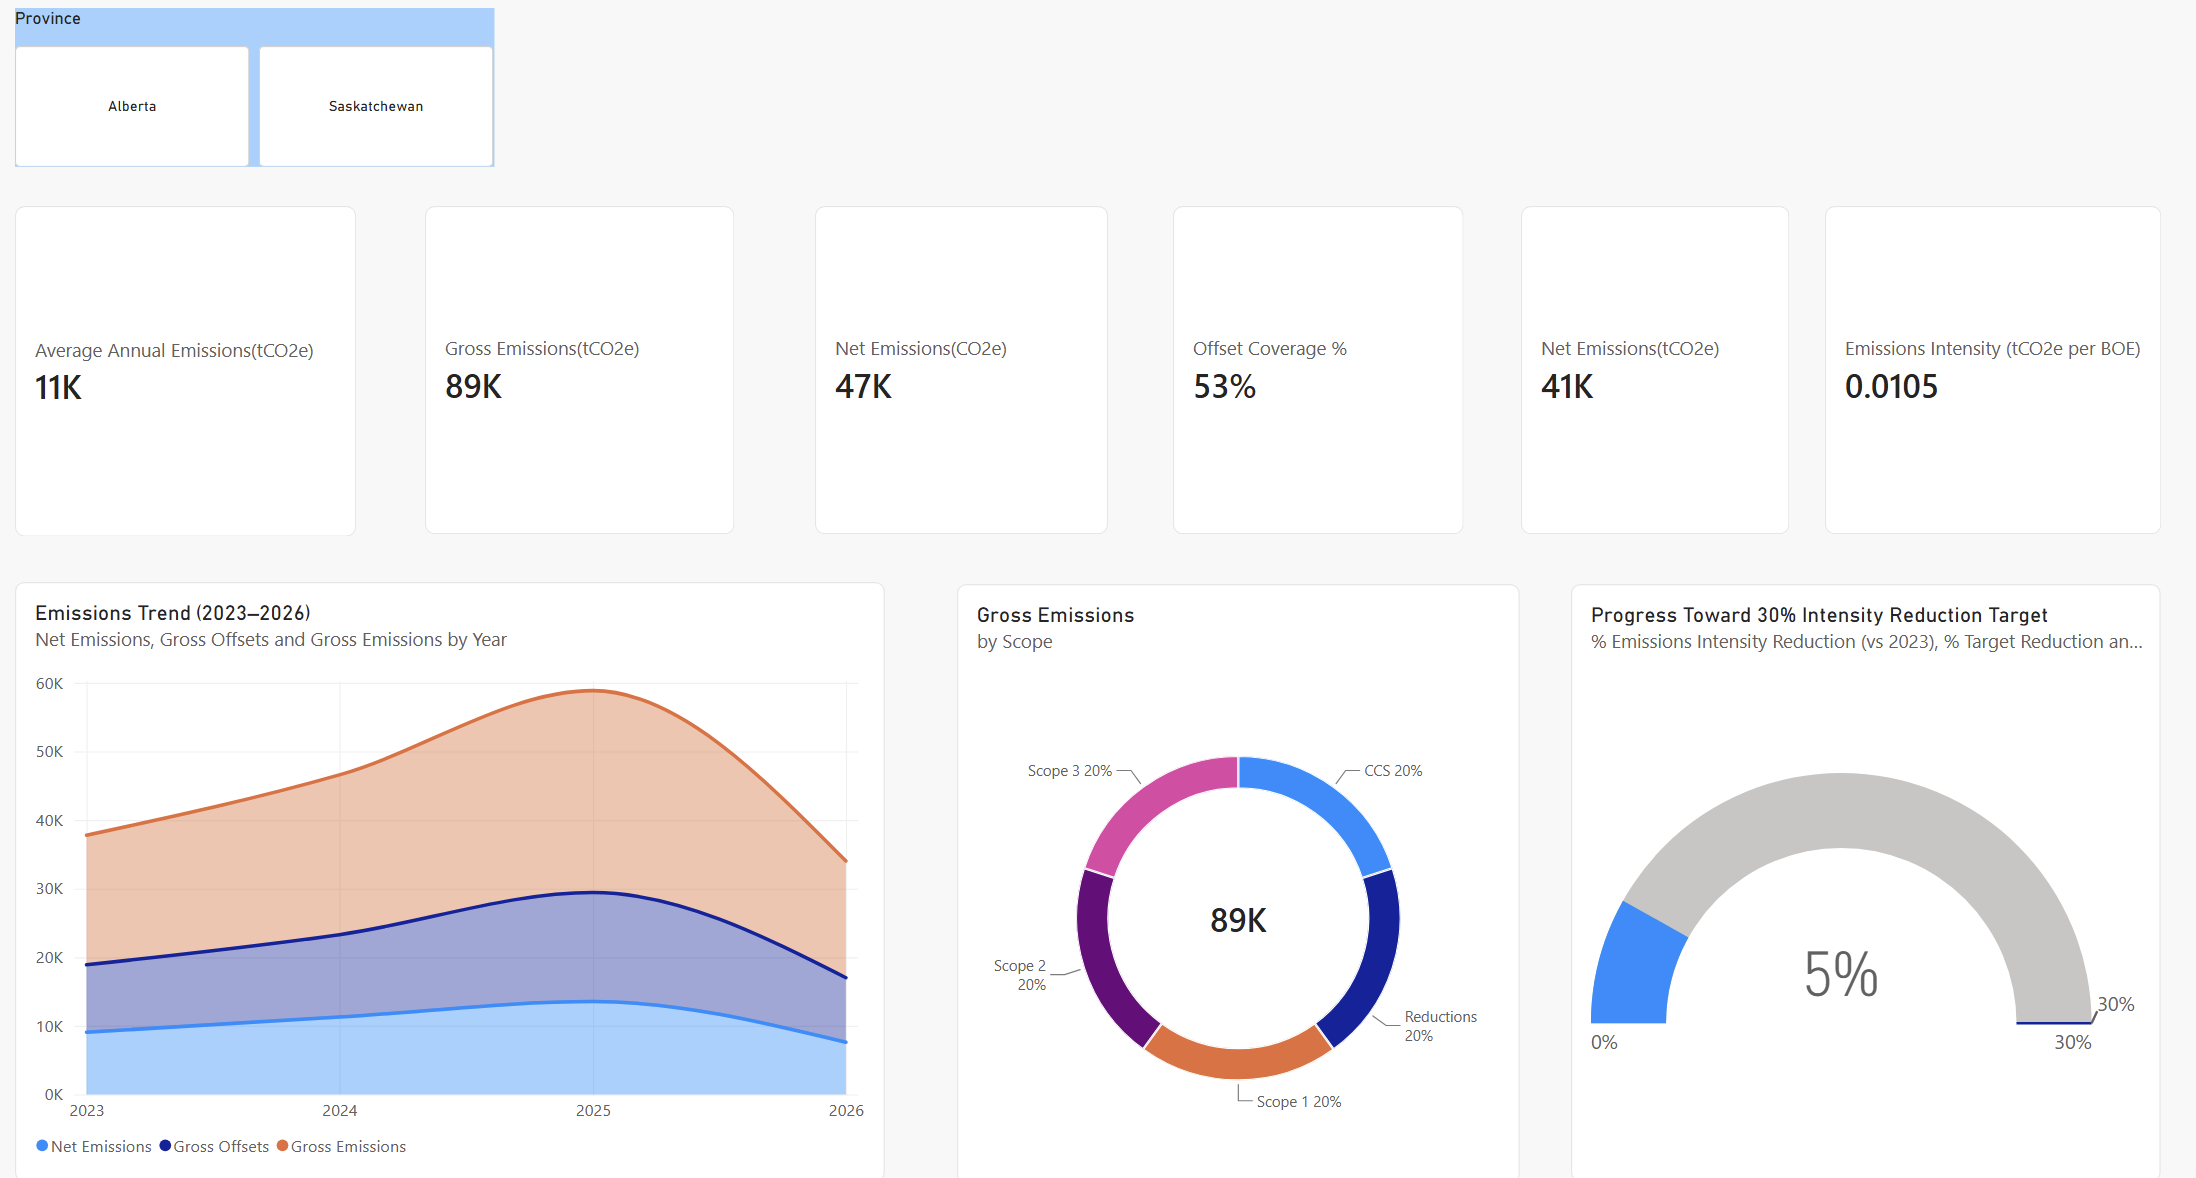

The page's visual inventory and layout, read from the dashboard file:
{"tool":"powerbi","page":{"name":"Executive Summary","canvas":[1920,1080],"ordinal":0},"visuals":[{"type":"cardVisual","fields":{"Data":["Emissions.Gross Emissions"]},"box":[376.7,183.7,264.1,280.2],"z":0},{"type":"cardVisual","fields":{"Data":["Emissions.Gross Offsets"]},"box":[709.7,183.7,250.3,280.2],"z":1000},{"type":"cardVisual","fields":{"Data":["Emissions.Net Emissions"]},"box":[1311.4,183.7,229.7,280.2],"z":2000},{"type":"cardVisual","fields":{"Data":["Emissions.Emissions Intensity (tCO2e per BOE)"]},"box":[1570.9,183.7,287.1,280.2],"z":3000},{"type":"stackedAreaChart","title":"Emissions Trend (2023–2026)","fields":{"Category":["Dates.Date.Variation.Date Hierarchy.Year","Dates.Date.Variation.Date Hierarchy.Quarter","Dates.Date.Variation.Date Hierarchy.Month","Dates.Date.Variation.Date Hierarchy.Day"],"Y":["Emissions.Net Emissions","Emissions.Gross Offsets","Emissions.Gross Emissions"]},"box":[27.6,505.3,741.8,512.2],"z":4000},{"type":"cardVisual","fields":{"Data":["Emissions.Offset Coverage %"]},"box":[1015.1,183.7,248,280.2],"z":5000},{"type":"advancedSlicerVisual","fields":{"Values":["Assets.Province"]},"box":[27.6,16.1,408.8,135.5],"z":6000},{"type":"donutChart","fields":{"Category":["Emission Scope.Scope"],"Y":["Emissions.Gross Emissions"]},"box":[831.4,507.6,480,512.2],"z":7000},{"type":"gauge","title":"Progress Toward 30% Intensity Reduction Target","fields":{"MaxValue":["Emissions.% Target Reduction"],"TargetValue":["Emissions.% Target Reduction"],"Y":["Emissions.% Emissions Intensity Reduction (vs 2023)"]},"box":[1355,507.6,503,509.9],"z":8000},{"type":"cardVisual","fields":{"Data":["Emissions.Average Annual Net Emissions"]},"box":[27.6,183.7,291.7,282.5],"z":8001}]}

Visuals, with their boxes on the page's 1920x1080 design canvas (x1, y1, x2, y2). These are canvas units, not pixel positions in the 2196x1178 screenshot, which may show the page scaled, cropped or inside an application window:
cardVisual - Emissions.Gross Emissions: (left=377, top=184, right=641, bottom=464)
cardVisual - Emissions.Gross Offsets: (left=710, top=184, right=960, bottom=464)
cardVisual - Emissions.Net Emissions: (left=1311, top=184, right=1541, bottom=464)
cardVisual - Emissions.Emissions Intensity (tCO2e per BOE): (left=1571, top=184, right=1858, bottom=464)
"Emissions Trend (2023–2026)" stackedAreaChart: (left=28, top=505, right=769, bottom=1018)
cardVisual - Emissions.Offset Coverage %: (left=1015, top=184, right=1263, bottom=464)
advancedSlicerVisual - Assets.Province: (left=28, top=16, right=436, bottom=152)
donutChart - Emission Scope.Scope x Emissions.Gross Emissions: (left=831, top=508, right=1311, bottom=1020)
"Progress Toward 30% Intensity Reduction Target" gauge: (left=1355, top=508, right=1858, bottom=1018)
cardVisual - Emissions.Average Annual Net Emissions: (left=28, top=184, right=319, bottom=466)
